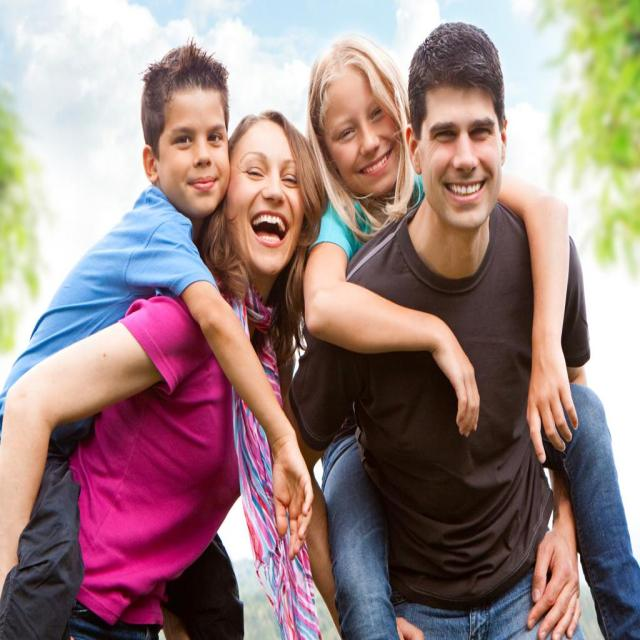Face: (308, 29, 411, 209), (404, 73, 515, 233), (219, 99, 312, 277), (147, 61, 233, 217)
